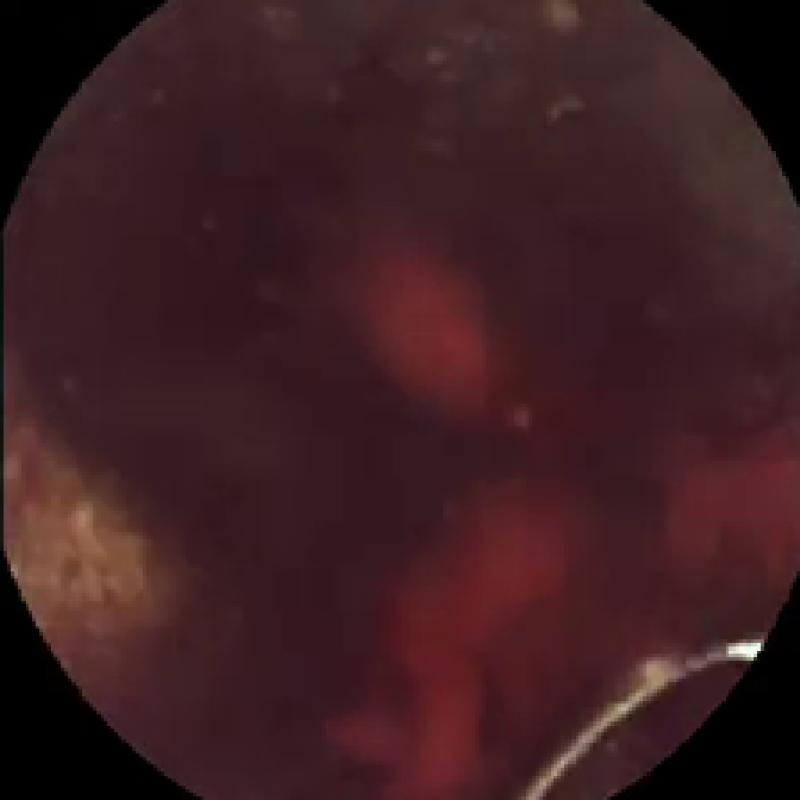bleeding: (326, 461, 575, 798), (643, 432, 800, 597), (368, 247, 503, 432)
